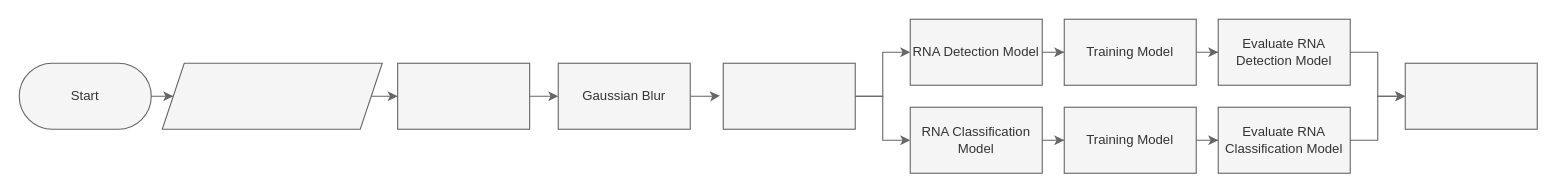
This 1557x193 diagram has some shape labels left out. Here are the shapes that lost their labels. From the top down, the centre of each, then its label:
At point 271,95: "Non-Coding RNA Dataset".
At point 463,95: "K-mers Counting".
At point 788,95: "Data Splitting".
At point 1470,95: "Overall Algorithm Evaluation".
